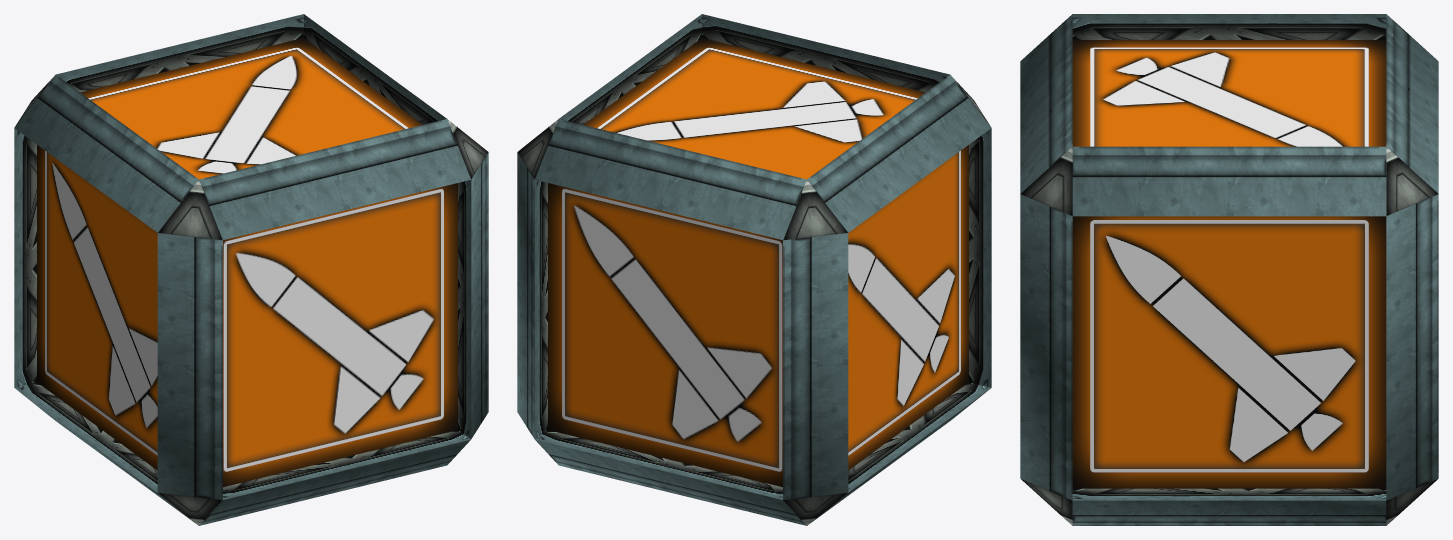
File: aprckt00.FBX
3 renders of one model, left to right at view 1: azimuth 30°, elevation 25°; view 2: azimuth 150°, elevation 25°; view 3: azimuth 270°, elevation 25°, orthographic. The views are drawn at different scales.
Visible parts, largest first — view 1: apmisl00__e; view 2: apmisl00__e; view 3: apmisl00__e.
Boxes of the visible parts, x1,y1,x2,y2 form: apmisl00__e: (14,14,488,525); apmisl00__e: (517,14,991,525); apmisl00__e: (1020,14,1438,525).
Size of the model in its own units: 1.97 by 1.97 by 1.97.
